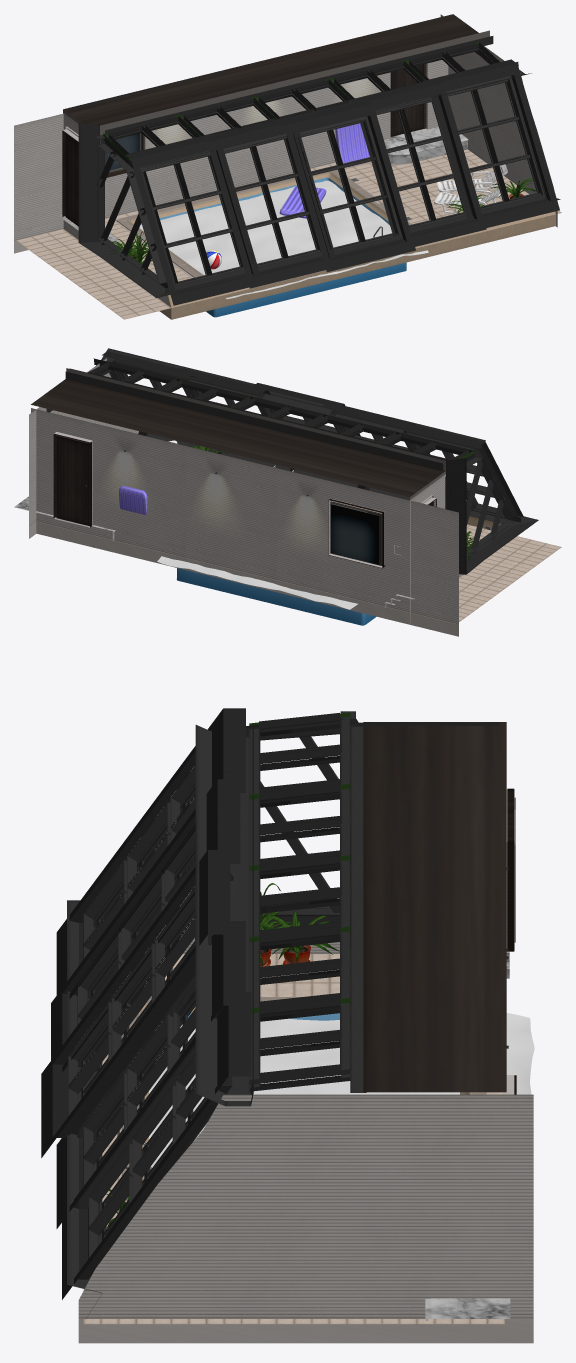
Rendered from Pool2.fbx.
The picture shows the model from 3 angles, top to bottom: view 1: azimuth 30°, elevation 25°; view 2: azimuth 150°, elevation 25°; view 3: azimuth 270°, elevation 25°; orthographic projection. The views are drawn at different scales.
Visible parts, largest first — view 1: 000412-vb0=9f50b06d-vs=0b76a35c80823274-ps=8936fc882dfd54d6.; view 2: 000412-vb0=9f50b06d-vs=0b76a35c80823274-ps=8936fc882dfd54d6.; view 3: 000412-vb0=9f50b06d-vs=0b76a35c80823274-ps=8936fc882dfd54d6..
Part boxes in pixels (x1,y1,x2,y2): 000412-vb0=9f50b06d-vs=0b76a35c80823274-ps=8936fc882dfd54d6.: (14,14,561,319); 000412-vb0=9f50b06d-vs=0b76a35c80823274-ps=8936fc882dfd54d6.: (14,348,561,636); 000412-vb0=9f50b06d-vs=0b76a35c80823274-ps=8936fc882dfd54d6.: (41,708,534,1343).
Bounding box in the file's own units: 1314 × 633 × 481.
